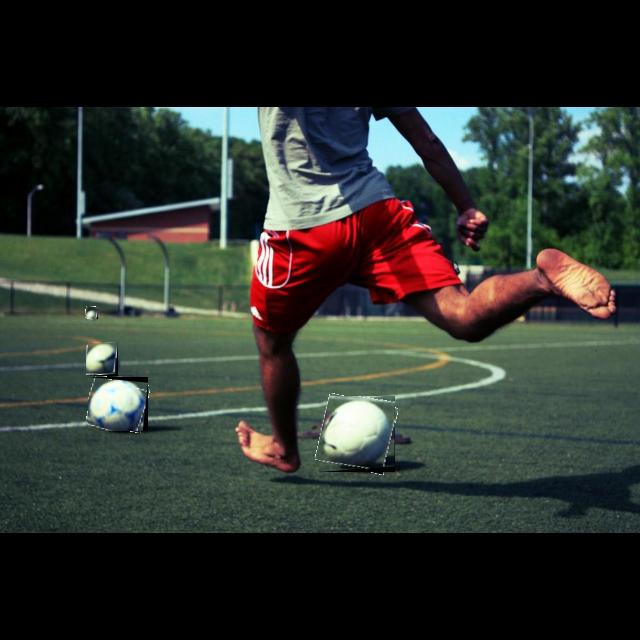Football: (319, 396, 395, 472), (88, 377, 148, 431), (86, 342, 118, 376), (86, 307, 98, 319)
